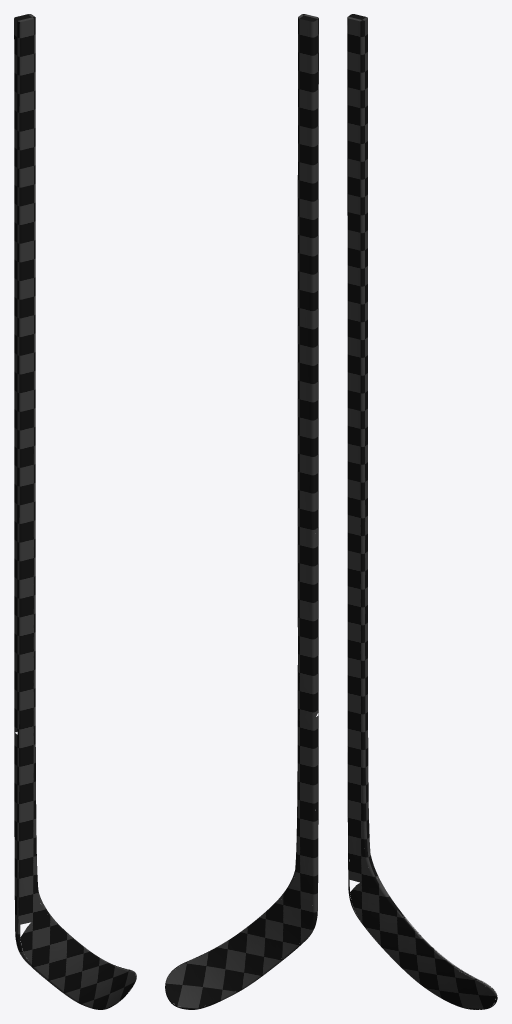
3 views of the same model, side by side, from view 1: azimuth 30°, elevation 25°; view 2: azimuth 150°, elevation 25°; view 3: azimuth 330°, elevation 25° (orthographic). The views are drawn at different scales.
Visible parts, largest first — view 1: geometry_0; view 2: geometry_0; view 3: geometry_0.
Part boxes in pixels (box(x1,y1,x2,y2)): geometry_0: box(14, 14, 136, 1009); geometry_0: box(165, 14, 318, 1009); geometry_0: box(347, 14, 497, 1009).
Bounding box in the file's own units: 231 × 1650 × 71.4.
Materials: 1 (1 with a texture image).
